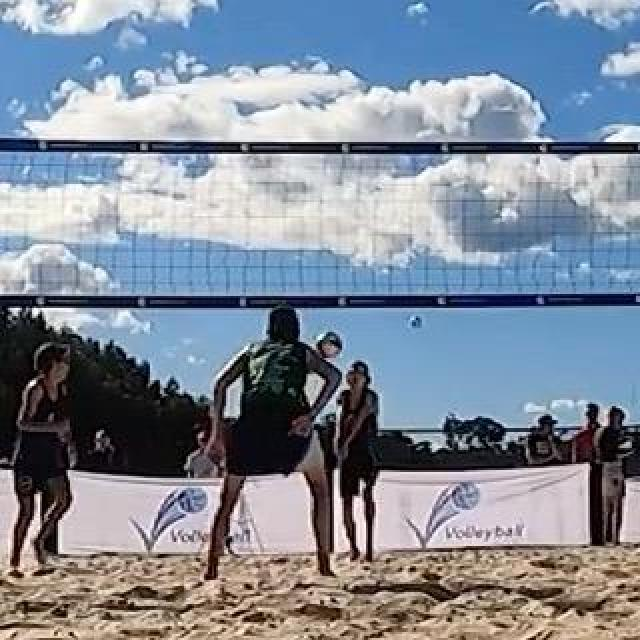volleyball: (315, 330, 341, 358), (409, 316, 421, 328)
